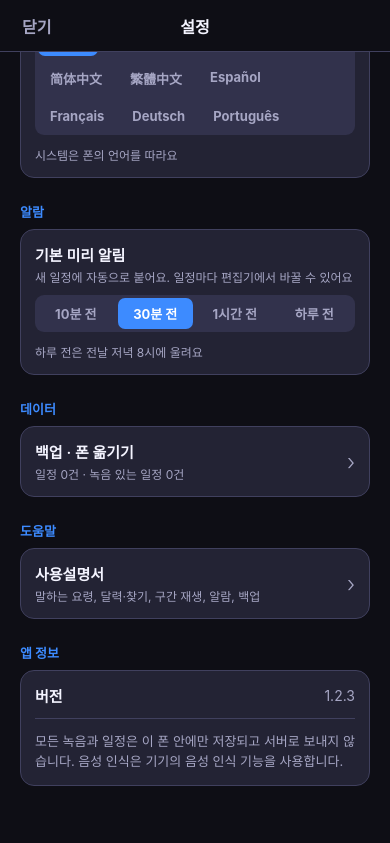
Test: SettingsSheet › 사용설명서를 누르면 설명서 화면이 열린다
The width and height of the screenshot is (390, 843).
(page scrolled)
Click the element labelled "사용설명서" at (70, 574), box [35, 563, 355, 604]
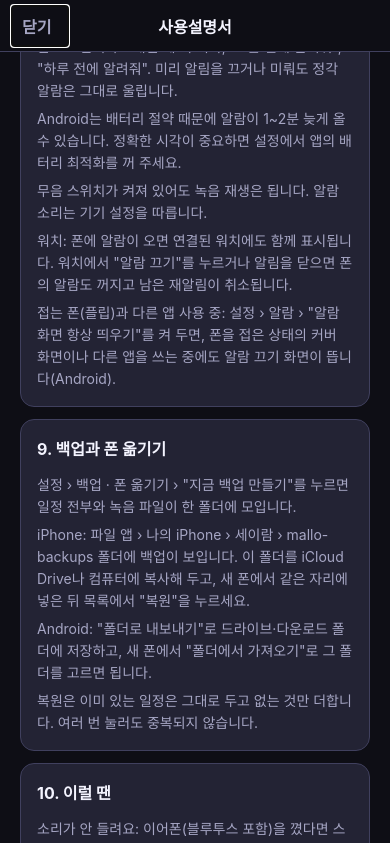
Expected: the text "9. 백업과 폰 옮기기" is shown, [37, 439, 166, 459]
